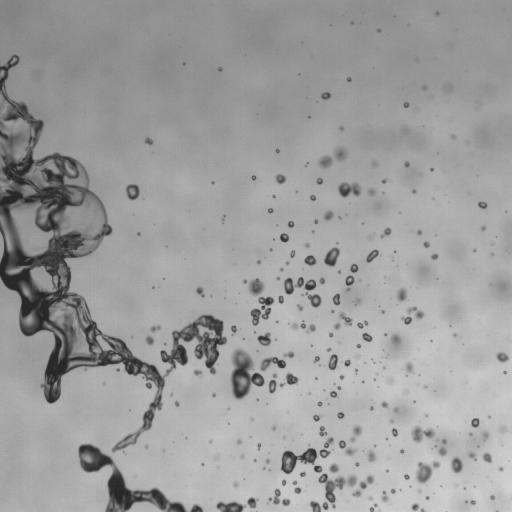droplet: (229, 348, 264, 399), (415, 460, 441, 484), (410, 424, 435, 443), (400, 306, 425, 324), (333, 311, 353, 330), (337, 182, 361, 197), (348, 424, 362, 443), (400, 361, 414, 377), (450, 456, 463, 473), (126, 184, 139, 200), (257, 332, 271, 346), (328, 354, 339, 371), (396, 288, 408, 302), (304, 254, 316, 266), (380, 227, 391, 239), (390, 333, 401, 345), (496, 352, 509, 362), (366, 449, 376, 462), (275, 173, 286, 184), (481, 452, 492, 463), (328, 462, 339, 473), (10, 91, 21, 102), (38, 128, 49, 139), (335, 136, 346, 147), (317, 166, 328, 177), (295, 248, 306, 259), (314, 250, 325, 261), (355, 255, 366, 266), (334, 281, 345, 292), (293, 285, 304, 296), (8, 290, 19, 301), (320, 295, 331, 306), (292, 311, 303, 322), (255, 323, 266, 334), (315, 325, 326, 336), (36, 329, 47, 340), (41, 329, 52, 340), (184, 340, 195, 351), (151, 341, 162, 352), (261, 346, 272, 357), (131, 347, 142, 358), (156, 361, 167, 372), (284, 362, 295, 373), (275, 368, 286, 379), (261, 369, 272, 380), (35, 372, 46, 383), (134, 373, 145, 384), (34, 388, 45, 399), (145, 388, 156, 399), (331, 398, 342, 409), (342, 416, 353, 427), (400, 427, 411, 438), (488, 428, 499, 439), (99, 444, 110, 455), (355, 451, 366, 462), (440, 455, 451, 466), (101, 464, 112, 475), (407, 464, 418, 475), (337, 466, 348, 477), (124, 479, 135, 490), (341, 484, 352, 495), (280, 486, 291, 497), (99, 490, 110, 501), (165, 491, 176, 502), (299, 492, 310, 503), (315, 492, 326, 503), (476, 494, 487, 505), (323, 210, 333, 221), (195, 286, 205, 297), (193, 368, 203, 379), (369, 502, 381, 511), (381, 490, 389, 503), (341, 357, 351, 367), (470, 417, 480, 427), (467, 451, 477, 461), (145, 334, 154, 345), (332, 293, 340, 305), (150, 324, 162, 332), (400, 125, 409, 135), (279, 233, 289, 242), (362, 332, 372, 341), (385, 375, 394, 385), (499, 424, 508, 434), (438, 446, 447, 456), (367, 187, 376, 196), (345, 151, 354, 160), (310, 158, 319, 167), (330, 158, 339, 167), (374, 182, 383, 191), (311, 184, 320, 193), (357, 259, 366, 268), (260, 288, 269, 297), (400, 299, 409, 308), (269, 301, 278, 310), (330, 313, 339, 322), (221, 327, 230, 336), (326, 337, 335, 346), (46, 340, 55, 349), (164, 344, 173, 353), (320, 354, 329, 363), (39, 357, 48, 366), (268, 362, 277, 371), (226, 363, 235, 372), (59, 373, 68, 382), (224, 382, 233, 391), (160, 387, 169, 396), (383, 406, 392, 415), (433, 429, 442, 438), (329, 441, 338, 450), (313, 442, 322, 451), (234, 444, 243, 453), (293, 446, 302, 455), (109, 451, 118, 460), (256, 451, 265, 460), (347, 454, 356, 463), (314, 455, 323, 464), (423, 456, 432, 465), (460, 456, 469, 465), (294, 460, 303, 469), (304, 462, 313, 471), (327, 471, 336, 480), (285, 472, 294, 481), (356, 472, 365, 481), (238, 496, 247, 505), (183, 501, 192, 510), (477, 201, 487, 209), (350, 263, 358, 273), (357, 320, 367, 328), (313, 413, 323, 421), (283, 351, 294, 358), (482, 430, 489, 441), (444, 83, 452, 92), (144, 137, 153, 145), (276, 295, 284, 304), (380, 400, 389, 408), (321, 92, 331, 99), (230, 325, 237, 335), (505, 358, 511, 369), (505, 430, 511, 441), (127, 505, 138, 511), (149, 505, 160, 511), (275, 505, 286, 511), (465, 505, 476, 511), (367, 232, 375, 240), (353, 298, 361, 306), (337, 411, 345, 419), (391, 428, 398, 437), (316, 177, 323, 185), (287, 220, 294, 228), (430, 253, 438, 260), (452, 332, 460, 339), (0, 54, 5, 65), (371, 160, 378, 167), (309, 194, 316, 201), (422, 241, 429, 248), (296, 304, 303, 311), (402, 389, 409, 396), (299, 470, 306, 477), (3, 78, 10, 85), (33, 113, 40, 120), (40, 125, 47, 132), (59, 149, 66, 156), (327, 150, 334, 157), (68, 151, 75, 158), (31, 153, 38, 160), (346, 178, 353, 185), (359, 187, 366, 194), (333, 190, 340, 197), (347, 191, 354, 198), (374, 191, 381, 198), (317, 215, 324, 222), (330, 215, 337, 222), (283, 226, 290, 233), (102, 234, 109, 241), (419, 234, 426, 241), (427, 246, 434, 253), (302, 249, 309, 256), (64, 256, 71, 263), (335, 256, 342, 263), (330, 264, 337, 271), (246, 274, 253, 281), (242, 283, 249, 290), (67, 286, 74, 293), (278, 288, 285, 295), (308, 288, 315, 295), (391, 289, 398, 296), (405, 290, 412, 297), (409, 311, 416, 318), (213, 312, 220, 319), (89, 313, 96, 320), (188, 315, 195, 322), (410, 317, 417, 324), (362, 325, 369, 332), (285, 326, 292, 333), (150, 331, 157, 338), (360, 339, 367, 346), (215, 343, 222, 350), (405, 355, 412, 362), (283, 356, 290, 363), (336, 359, 343, 366), (117, 361, 124, 368), (163, 361, 170, 368), (500, 361, 507, 368), (104, 363, 111, 370), (374, 363, 381, 370), (412, 364, 419, 371), (202, 366, 209, 373), (382, 369, 389, 376), (163, 376, 170, 383), (365, 376, 372, 383), (335, 378, 342, 385), (262, 381, 269, 388), (150, 383, 157, 390), (249, 383, 256, 390), (241, 394, 248, 401), (147, 395, 154, 402), (387, 401, 394, 408), (373, 402, 380, 409), (142, 403, 149, 410), (313, 407, 320, 414), (152, 408, 159, 415), (389, 411, 396, 418), (317, 418, 324, 425), (314, 420, 321, 427), (420, 423, 427, 430), (407, 424, 414, 431), (360, 425, 367, 432), (129, 426, 136, 433), (140, 430, 147, 437), (406, 433, 413, 440), (354, 434, 361, 441), (320, 435, 327, 442), (421, 435, 428, 442), (241, 436, 248, 443), (82, 437, 89, 444), (91, 440, 98, 447), (410, 440, 417, 447), (436, 440, 443, 447), (345, 441, 352, 448), (125, 444, 132, 451), (374, 451, 381, 458), (476, 453, 483, 460), (435, 454, 442, 461), (257, 458, 264, 465), (75, 464, 82, 471), (321, 466, 328, 473), (430, 467, 437, 474), (89, 470, 96, 477), (279, 471, 286, 478), (409, 472, 416, 479), (372, 475, 379, 482), (426, 477, 433, 484), (417, 481, 424, 488), (353, 482, 360, 489), (144, 484, 151, 491), (332, 487, 339, 494), (360, 488, 367, 495), (374, 496, 381, 503), (222, 497, 229, 504), (377, 500, 384, 507), (290, 249, 295, 258), (506, 420, 511, 429), (242, 506, 251, 511), (313, 356, 319, 363), (213, 453, 219, 460), (304, 242, 310, 248), (236, 438, 242, 444), (233, 481, 239, 487), (282, 479, 287, 486), (346, 76, 351, 82), (421, 85, 427, 90), (403, 102, 409, 107), (450, 134, 456, 139), (404, 161, 409, 167), (251, 174, 256, 180), (381, 178, 387, 183), (267, 208, 273, 213), (313, 218, 318, 224), (480, 225, 485, 231), (417, 229, 422, 235), (354, 354, 360, 359), (339, 374, 344, 380), (174, 400, 179, 406), (393, 406, 398, 412), (271, 425, 276, 431), (265, 458, 270, 464), (390, 488, 395, 494), (490, 494, 495, 500), (367, 496, 373, 501), (470, 500, 476, 505), (507, 352, 511, 359), (306, 507, 313, 511), (326, 507, 333, 511), (339, 126, 344, 131), (411, 189, 416, 194), (256, 259, 261, 264), (328, 332, 333, 337), (211, 392, 216, 397), (317, 401, 322, 406), (389, 418, 394, 423), (498, 466, 503, 471), (404, 474, 409, 479), (17, 60, 22, 65), (213, 64, 218, 69), (7, 67, 12, 72), (345, 72, 350, 77), (324, 87, 329, 92), (326, 97, 331, 102), (402, 97, 407, 102), (42, 119, 47, 124), (148, 134, 153, 139), (139, 137, 144, 142), (152, 139, 157, 144), (143, 142, 148, 147), (47, 150, 52, 155), (399, 162, 404, 167), (408, 162, 413, 167), (84, 165, 89, 170), (405, 166, 410, 171), (86, 169, 91, 174), (280, 170, 285, 175), (311, 178, 316, 183), (130, 179, 135, 184), (272, 179, 277, 184), (279, 182, 284, 187), (87, 185, 92, 190), (138, 188, 143, 193), (95, 191, 100, 196), (122, 192, 127, 197), (136, 194, 141, 199), (99, 196, 104, 201), (124, 196, 129, 201), (478, 196, 483, 201), (131, 198, 136, 203), (102, 201, 107, 206), (104, 206, 109, 211), (476, 206, 481, 211), (339, 211, 344, 216), (308, 218, 313, 223), (106, 219, 111, 224), (478, 221, 483, 226), (311, 223, 316, 228), (379, 228, 384, 233), (383, 234, 388, 239), (304, 237, 309, 242), (276, 238, 281, 243), (279, 240, 284, 245), (428, 240, 433, 245), (336, 244, 341, 249), (419, 244, 424, 249), (489, 246, 494, 251), (324, 247, 329, 252), (91, 250, 96, 255), (364, 250, 369, 255), (86, 253, 91, 258), (81, 255, 86, 260), (436, 256, 441, 261), (372, 257, 377, 262), (432, 258, 437, 263), (280, 262, 285, 267), (303, 263, 308, 268), (311, 263, 316, 268), (324, 263, 329, 268), (347, 270, 352, 275), (69, 271, 74, 276), (350, 271, 355, 276), (323, 275, 328, 280), (258, 276, 263, 281), (280, 276, 285, 281), (302, 277, 307, 282), (291, 279, 296, 284), (315, 281, 320, 286), (201, 289, 206, 294), (195, 293, 200, 298), (338, 296, 343, 301), (273, 297, 278, 302), (305, 298, 310, 303), (86, 301, 91, 306), (319, 301, 324, 306), (268, 303, 273, 308), (330, 303, 335, 308), (309, 305, 314, 310), (416, 305, 421, 310), (293, 306, 298, 311), (204, 310, 209, 315), (344, 312, 349, 317), (403, 312, 408, 317), (247, 314, 252, 319), (257, 316, 262, 321), (420, 316, 425, 321), (339, 318, 344, 323), (296, 320, 301, 325), (351, 320, 356, 325), (152, 321, 157, 326), (304, 321, 309, 326), (96, 323, 101, 328), (314, 323, 319, 328), (15, 325, 20, 330), (176, 326, 181, 331), (297, 326, 302, 331), (329, 327, 334, 332), (450, 327, 455, 332), (101, 329, 106, 334), (309, 330, 314, 335), (367, 330, 372, 335), (18, 331, 23, 336), (108, 331, 113, 336), (114, 333, 119, 338), (386, 333, 391, 338), (120, 336, 125, 341), (254, 339, 259, 344), (125, 342, 130, 347), (143, 342, 148, 347), (290, 347, 295, 352), (283, 348, 288, 353), (327, 350, 332, 355), (381, 351, 386, 356), (201, 355, 206, 360), (216, 355, 221, 360), (277, 355, 282, 360), (381, 359, 386, 364), (174, 360, 179, 365), (400, 362, 405, 367), (112, 363, 117, 368), (348, 363, 353, 368), (98, 364, 103, 369), (78, 365, 83, 370), (87, 366, 92, 371), (72, 367, 77, 372), (170, 368, 175, 373), (402, 369, 407, 374), (259, 370, 264, 375), (292, 371, 297, 376), (407, 371, 412, 376), (137, 372, 142, 377), (128, 373, 133, 378), (192, 374, 197, 379), (296, 379, 301, 384), (284, 382, 289, 387), (290, 383, 295, 388), (275, 385, 280, 390), (332, 386, 337, 391), (328, 396, 333, 401), (41, 397, 46, 402), (160, 397, 165, 402), (170, 397, 175, 402), (385, 398, 390, 403), (52, 400, 57, 405), (321, 400, 326, 405), (381, 406, 386, 411), (139, 410, 144, 415), (332, 412, 337, 417), (151, 418, 156, 423), (138, 420, 143, 425), (267, 422, 272, 427), (477, 423, 482, 428), (266, 426, 271, 431), (470, 426, 475, 431), (314, 427, 319, 432), (387, 431, 392, 436), (503, 431, 508, 436), (121, 432, 126, 437), (326, 432, 331, 437), (478, 434, 483, 439), (487, 434, 492, 439), (136, 435, 141, 440), (445, 437, 450, 442), (110, 441, 115, 446), (309, 443, 314, 448), (442, 443, 447, 448), (123, 446, 128, 451), (280, 447, 285, 452), (372, 447, 377, 452), (433, 447, 438, 452), (73, 448, 78, 453), (116, 448, 121, 453), (314, 448, 319, 453), (263, 453, 268, 458), (277, 453, 282, 458), (490, 455, 495, 460), (295, 459, 300, 464), (482, 460, 487, 465), (276, 461, 281, 466), (264, 463, 269, 468), (316, 471, 321, 476), (236, 478, 241, 483), (404, 479, 409, 484), (228, 480, 233, 485), (295, 482, 300, 487), (320, 482, 325, 487), (365, 483, 370, 488), (457, 484, 462, 489), (385, 489, 390, 494), (394, 489, 399, 494), (270, 492, 275, 497), (251, 493, 256, 498), (278, 495, 283, 500), (352, 495, 357, 500), (493, 497, 498, 502), (214, 498, 219, 503), (289, 499, 294, 504), (255, 500, 260, 505), (268, 500, 273, 505), (277, 501, 282, 506), (198, 502, 203, 507), (407, 502, 412, 507), (417, 503, 422, 508), (470, 504, 475, 509), (373, 506, 378, 511), (442, 438, 446, 444), (240, 453, 244, 459), (0, 250, 3, 257), (0, 278, 3, 285), (376, 28, 381, 32), (275, 148, 279, 153), (285, 260, 289, 265), (381, 309, 385, 314), (356, 344, 361, 348), (326, 347, 331, 351), (115, 367, 120, 371), (422, 384, 427, 388), (369, 406, 374, 410), (468, 432, 473, 436), (144, 444, 148, 449), (400, 449, 405, 453), (354, 462, 359, 466), (454, 484, 458, 489), (417, 488, 421, 493), (435, 11, 439, 15), (218, 67, 222, 71), (472, 248, 476, 252), (337, 270, 341, 274), (276, 276, 280, 280), (357, 278, 361, 282), (163, 341, 167, 345), (503, 370, 507, 374), (314, 376, 318, 380), (306, 391, 310, 395), (208, 439, 212, 443), (462, 486, 466, 490), (425, 496, 429, 500), (489, 252, 494, 255), (215, 508, 220, 511), (320, 508, 325, 511), (408, 508, 413, 511), (415, 508, 420, 511), (350, 21, 353, 25), (430, 168, 434, 171), (272, 194, 275, 198), (136, 232, 140, 235), (490, 242, 494, 245), (269, 248, 273, 251), (280, 267, 283, 271), (331, 309, 334, 313), (382, 365, 385, 369), (170, 392, 173, 396), (250, 417, 253, 421), (248, 435, 252, 438), (282, 435, 285, 439), (435, 438, 439, 441), (253, 458, 256, 462), (201, 462, 204, 466), (262, 466, 265, 470), (385, 469, 389, 472), (0, 93, 2, 98), (0, 233, 2, 238), (182, 62, 185, 65), (307, 115, 310, 118), (211, 181, 214, 184), (295, 190, 298, 193), (338, 216, 341, 219), (361, 222, 364, 225), (311, 230, 314, 233), (393, 250, 396, 253), (384, 276, 387, 279), (152, 286, 155, 289), (275, 320, 278, 323), (384, 333, 387, 336), (130, 335, 133, 338), (274, 338, 277, 341), (430, 339, 433, 342), (310, 344, 313, 347), (375, 372, 378, 375), (361, 380, 364, 383), (102, 382, 105, 385), (256, 398, 259, 401), (413, 400, 416, 403), (227, 407, 230, 410), (425, 414, 428, 417), (488, 415, 491, 418), (227, 422, 230, 425), (385, 437, 388, 440), (373, 444, 376, 447), (434, 444, 437, 447), (162, 449, 165, 452), (268, 468, 271, 471), (432, 9, 435, 12), (438, 10, 441, 13), (376, 25, 379, 28), (380, 28, 383, 31), (376, 31, 379, 34), (12, 51, 15, 54), (17, 53, 20, 56), (7, 56, 10, 59), (183, 59, 186, 62), (179, 62, 182, 65), (184, 63, 187, 66), (221, 68, 224, 71), (217, 70, 220, 73), (350, 76, 353, 79), (343, 78, 346, 81), (347, 81, 350, 84), (400, 104, 403, 107), (406, 106, 409, 109), (307, 112, 310, 115), (306, 117, 309, 120), (343, 125, 346, 128), (336, 128, 339, 131), (279, 149, 282, 152), (273, 151, 276, 154), (306, 158, 309, 161), (302, 161, 305, 164), (306, 163, 309, 166), (430, 164, 433, 167), (302, 166, 305, 169), (427, 169, 430, 172), (431, 170, 434, 173), (248, 174, 251, 177), (255, 175, 258, 178), (381, 176, 384, 179), (212, 178, 215, 181), (249, 178, 252, 181), (208, 179, 211, 182), (322, 179, 325, 182), (385, 180, 388, 183), (213, 182, 216, 185), (380, 182, 383, 185), (209, 183, 212, 186), (319, 183, 322, 186), (413, 186, 416, 189), (296, 187, 299, 190), (409, 187, 412, 190), (297, 191, 300, 194), (308, 192, 311, 195), (269, 193, 272, 196), (274, 193, 277, 196), (412, 193, 415, 196), (315, 195, 318, 198), (271, 197, 274, 200), (309, 199, 312, 202), (313, 199, 316, 202), (266, 205, 269, 208), (485, 206, 488, 209), (272, 207, 275, 210), (264, 208, 267, 211), (223, 211, 226, 214), (269, 212, 272, 215), (219, 215, 222, 218), (223, 216, 226, 219), (360, 218, 363, 221), (223, 220, 226, 223), (275, 220, 278, 223), (293, 221, 296, 224), (292, 225, 295, 228), (419, 227, 422, 230), (136, 228, 139, 231), (478, 228, 481, 231), (483, 229, 486, 232), (308, 230, 311, 233), (414, 230, 417, 233), (139, 231, 142, 234), (312, 232, 315, 235), (135, 234, 138, 237), (492, 235, 495, 238), (470, 246, 473, 249), (266, 247, 269, 250), (475, 248, 478, 251), (368, 249, 371, 252), (267, 250, 270, 253), (270, 250, 273, 253), (395, 250, 398, 253), (471, 251, 474, 254), (493, 251, 496, 254), (392, 252, 395, 255), (287, 254, 290, 257), (491, 255, 494, 258), (254, 258, 257, 261), (388, 258, 391, 261), (260, 260, 263, 263), (352, 260, 355, 263), (357, 266, 360, 269), (276, 267, 279, 270), (356, 269, 359, 272), (159, 276, 162, 279), (273, 276, 276, 279), (353, 278, 356, 281), (161, 279, 164, 282), (435, 279, 438, 282), (342, 280, 345, 283), (154, 284, 157, 287), (148, 285, 151, 288), (151, 288, 154, 291), (331, 293, 334, 296), (330, 300, 333, 303), (356, 303, 359, 306), (87, 305, 90, 308), (379, 306, 382, 309), (378, 310, 381, 313), (384, 310, 387, 313), (366, 319, 369, 322), (360, 320, 363, 323), (401, 320, 404, 323), (231, 322, 234, 325), (274, 322, 277, 325), (451, 323, 454, 326), (445, 324, 448, 327), (235, 325, 238, 328), (355, 325, 358, 328), (169, 329, 172, 332), (383, 329, 386, 332), (235, 330, 238, 333), (380, 332, 383, 335), (325, 333, 328, 336), (242, 334, 245, 337), (383, 335, 386, 338), (450, 335, 453, 338), (330, 336, 333, 339), (428, 336, 431, 339), (311, 341, 314, 344), (428, 341, 431, 344), (307, 344, 310, 347), (312, 344, 315, 347), (325, 345, 328, 348), (356, 347, 359, 350), (318, 354, 321, 357), (292, 355, 295, 358), (311, 357, 314, 360), (363, 358, 366, 361), (316, 360, 319, 363), (369, 360, 372, 363), (325, 364, 328, 367), (385, 365, 388, 368), (330, 369, 333, 372), (356, 370, 359, 373), (378, 372, 381, 375), (314, 373, 317, 376), (502, 373, 505, 376), (311, 376, 314, 379), (317, 376, 320, 379), (343, 376, 346, 379), (404, 376, 407, 379), (360, 377, 363, 380), (375, 377, 378, 380), (363, 378, 366, 381), (314, 379, 317, 382), (371, 380, 374, 383), (360, 382, 363, 385), (424, 382, 427, 385), (419, 383, 422, 386), (427, 384, 430, 387), (340, 385, 343, 388), (424, 387, 427, 390), (305, 389, 308, 392), (433, 391, 436, 394), (269, 392, 272, 395), (215, 393, 218, 396), (209, 395, 212, 398), (213, 396, 216, 399), (334, 396, 337, 399), (412, 396, 415, 399), (258, 397, 261, 400), (316, 398, 319, 401), (409, 399, 412, 402), (254, 400, 257, 403), (415, 400, 418, 403), (178, 401, 181, 404), (262, 401, 265, 404), (314, 401, 317, 404), (172, 403, 175, 406), (367, 404, 370, 407), (397, 408, 400, 411), (371, 409, 374, 412), (311, 412, 314, 415), (488, 412, 491, 415), (427, 413, 430, 416), (473, 415, 476, 418), (490, 415, 493, 418), (336, 417, 339, 420), (340, 417, 343, 420), (478, 418, 481, 421), (312, 419, 315, 422), (224, 420, 227, 423), (468, 420, 471, 423), (229, 421, 232, 424), (224, 423, 227, 426), (393, 425, 396, 428), (274, 428, 277, 431), (396, 428, 399, 431), (248, 432, 251, 435), (181, 435, 184, 438), (395, 435, 398, 438), (469, 435, 472, 438), (341, 437, 344, 440), (233, 439, 236, 442), (384, 439, 387, 442), (211, 440, 214, 443), (372, 441, 375, 444), (237, 443, 240, 446), (147, 444, 150, 447), (254, 445, 257, 448), (259, 445, 262, 448), (398, 446, 401, 449), (396, 449, 399, 452), (398, 452, 401, 455), (252, 455, 255, 458), (255, 456, 258, 459), (200, 459, 203, 462), (203, 461, 206, 464), (252, 461, 255, 464), (358, 461, 361, 464), (198, 463, 201, 466), (352, 464, 355, 467), (264, 468, 267, 471), (388, 468, 391, 471), (502, 468, 505, 471), (382, 469, 385, 472), (499, 470, 502, 473), (387, 471, 390, 474), (401, 472, 404, 475), (401, 476, 404, 479), (439, 481, 442, 484), (463, 483, 466, 486), (391, 485, 394, 488), (438, 486, 441, 489), (408, 487, 411, 490), (472, 487, 475, 490), (300, 488, 303, 491), (462, 489, 465, 492), (379, 491, 382, 494), (294, 492, 297, 495), (425, 492, 428, 495), (488, 492, 491, 495), (493, 493, 496, 496), (487, 496, 490, 499), (428, 497, 431, 500), (471, 497, 474, 500), (265, 498, 268, 501), (461, 499, 464, 502), (467, 499, 470, 502), (490, 499, 493, 502), (475, 500, 478, 503), (423, 507, 426, 510), (493, 507, 496, 510), (432, 197, 434, 200), (398, 211, 401, 213), (272, 238, 275, 240), (392, 258, 394, 261), (210, 294, 212, 297), (449, 324, 451, 327), (253, 331, 256, 333), (337, 341, 340, 343), (363, 362, 366, 364), (318, 364, 321, 366), (373, 378, 375, 381), (300, 433, 303, 435), (185, 436, 187, 439), (490, 480, 492, 483), (465, 500, 467, 503), (366, 509, 369, 511), (298, 73, 300, 75), (382, 191, 384, 193), (505, 210, 507, 212), (345, 213, 347, 215), (276, 224, 278, 226), (165, 245, 167, 247), (224, 297, 226, 299), (235, 302, 237, 304), (378, 305, 380, 307), (242, 337, 244, 339), (382, 349, 384, 351), (379, 361, 381, 363), (323, 389, 325, 391), (327, 403, 329, 405), (477, 445, 479, 447), (409, 485, 411, 487), (440, 485, 442, 487), (473, 485, 475, 487), (399, 489, 401, 491), (436, 278, 438, 279), (377, 386, 379, 387), (433, 390, 435, 391), (257, 350, 258, 351), (129, 409, 130, 410)
ligament: (268, 371, 301, 393), (318, 146, 347, 168), (216, 496, 258, 511), (352, 473, 374, 497), (323, 241, 340, 266), (259, 356, 286, 371), (288, 320, 316, 334), (338, 440, 357, 456), (343, 275, 354, 293), (366, 249, 381, 262), (411, 502, 426, 511), (292, 480, 301, 493), (221, 214, 226, 223), (257, 443, 261, 451), (354, 368, 358, 375), (304, 162, 308, 167), (371, 358, 375, 363), (382, 355, 388, 358), (346, 500, 349, 502), (461, 343, 463, 345), (495, 510, 499, 511), (255, 510, 258, 511)
